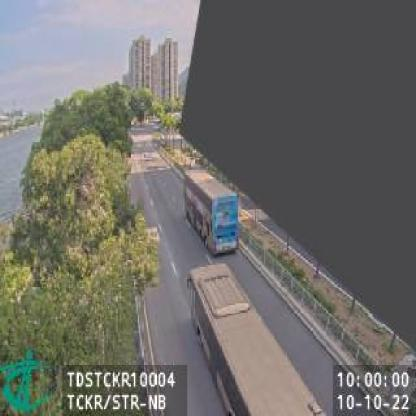Bus: (187, 262, 332, 416), (185, 169, 236, 251)
